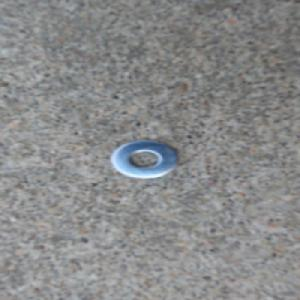Washer: (106, 138, 180, 181)
